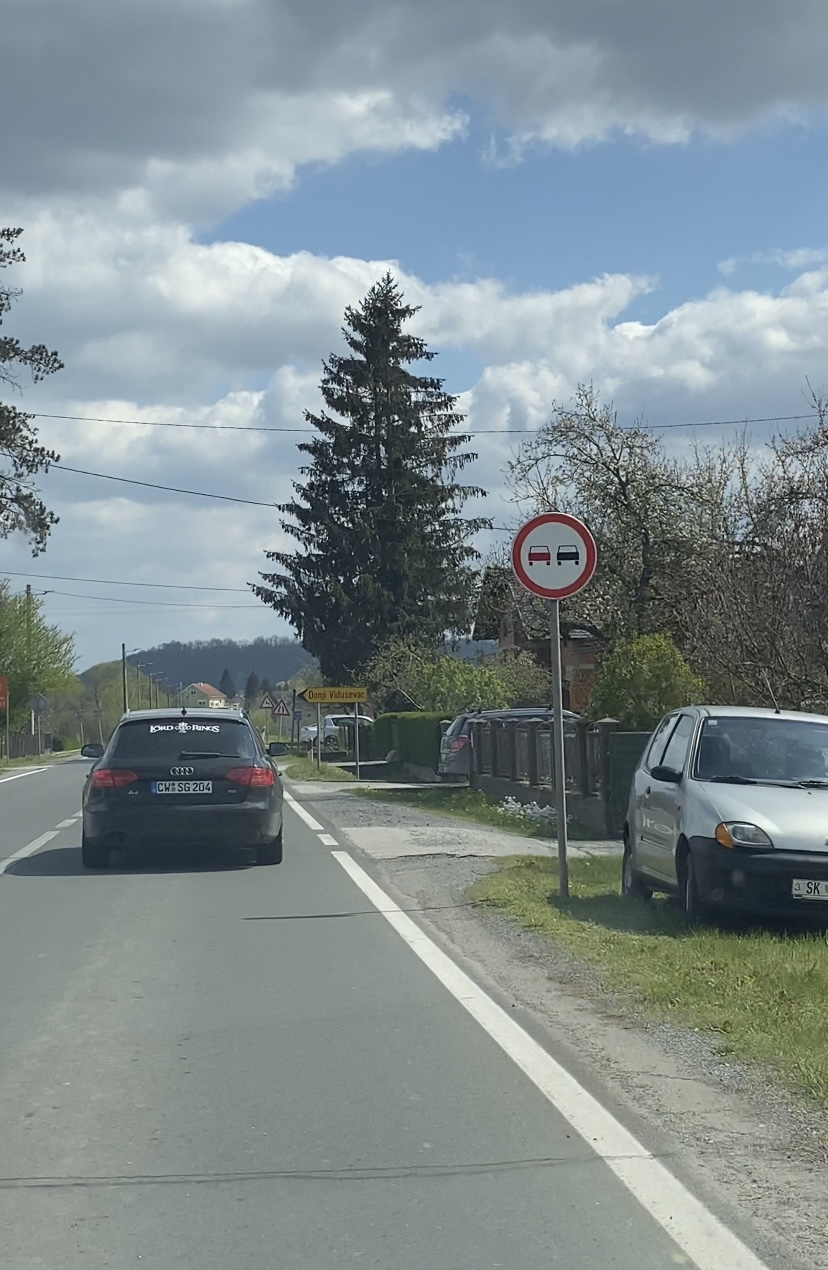Zabrana pretjecanja: (511, 512, 597, 600)
